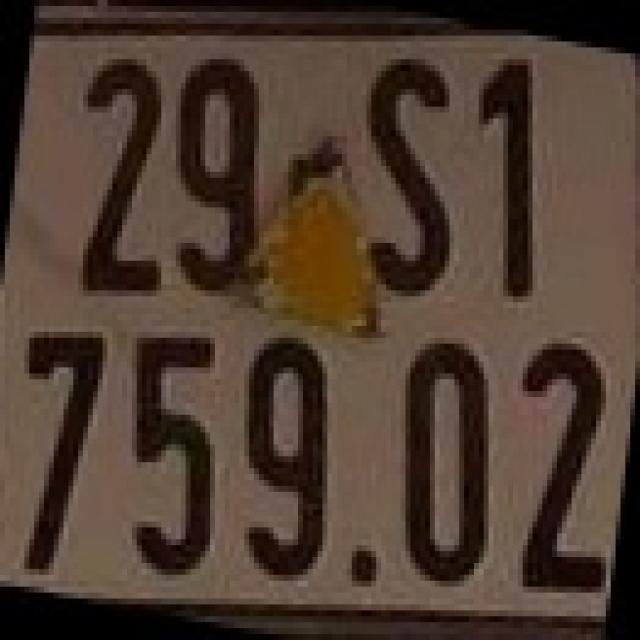0: (396, 332, 498, 587)
1: (472, 51, 560, 306)
2: (513, 332, 611, 598), (73, 51, 166, 300)
5: (127, 326, 220, 575)
7: (14, 326, 108, 575)
9: (235, 329, 337, 578), (171, 50, 269, 294)
S: (357, 54, 459, 296)
